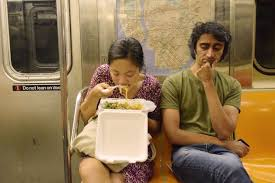eating: (87, 40, 171, 146)
